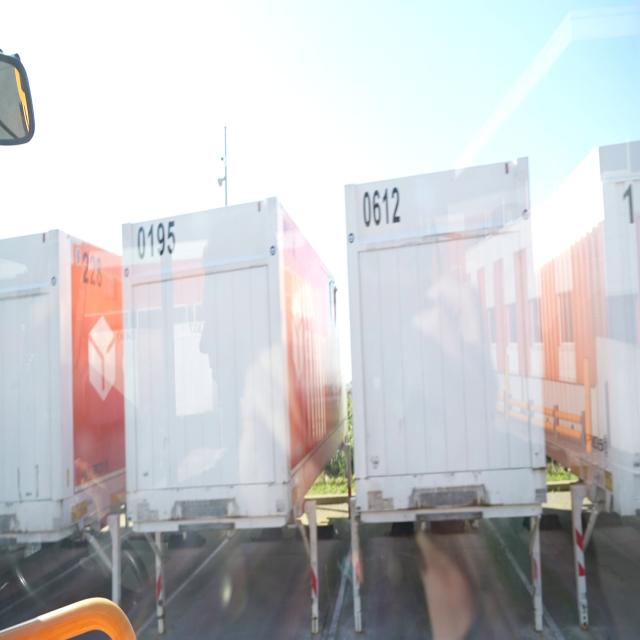Code: (133, 218, 180, 262), (359, 182, 403, 229)
